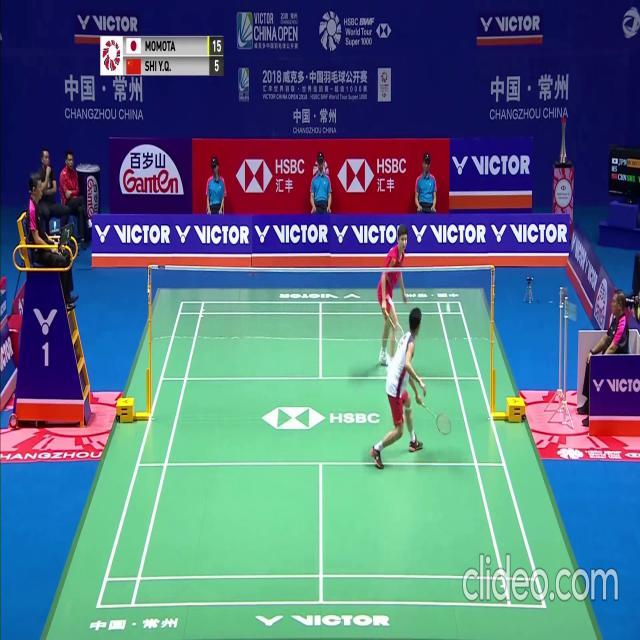Shuttlecock: (446, 306, 451, 313)
